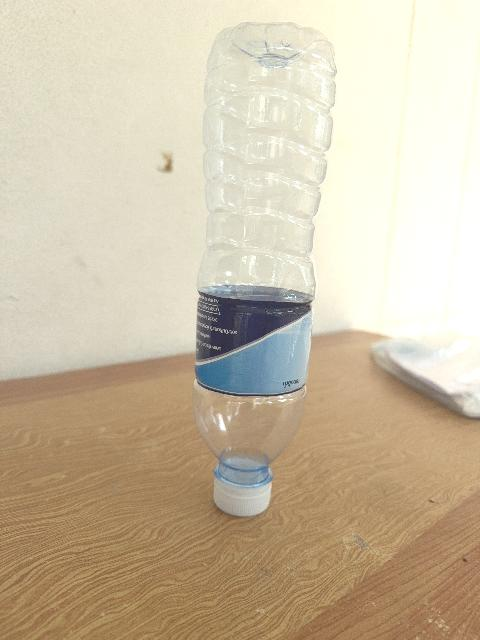bottle: (193, 24, 334, 515)
